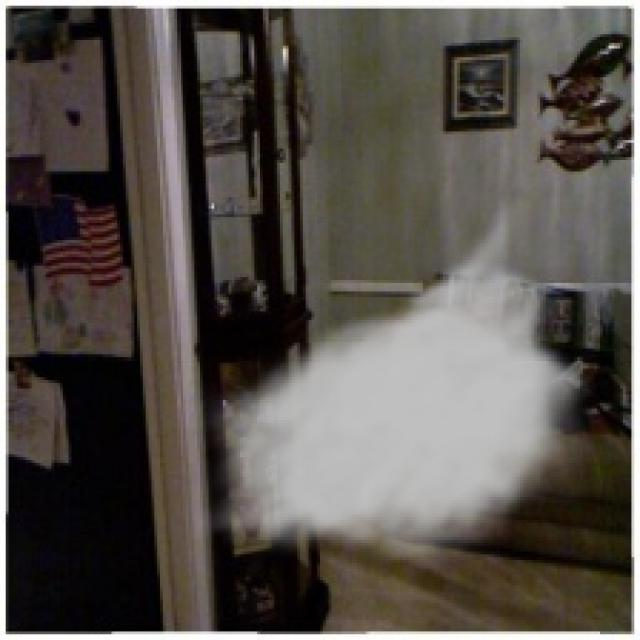smoke: (192, 197, 597, 569)
